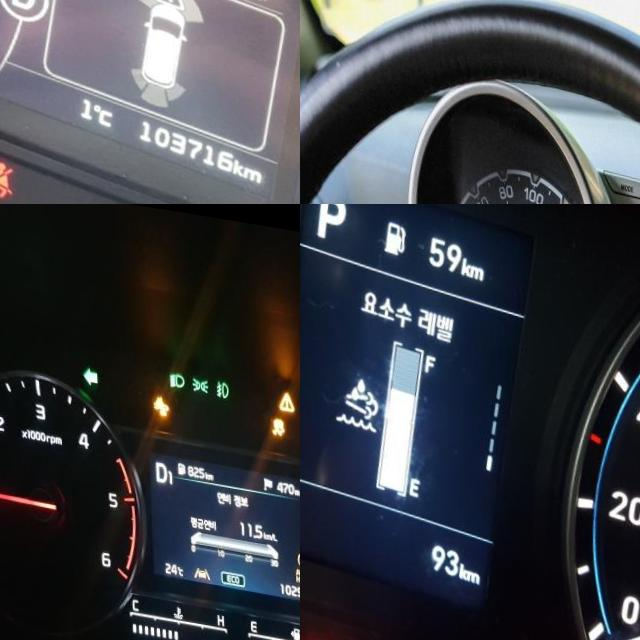Central Warning lamp: (276, 376, 292, 398)
FrontFogLight: (213, 367, 227, 387)
Low beam: (167, 361, 183, 379)
SideLamp: (189, 365, 206, 382)
